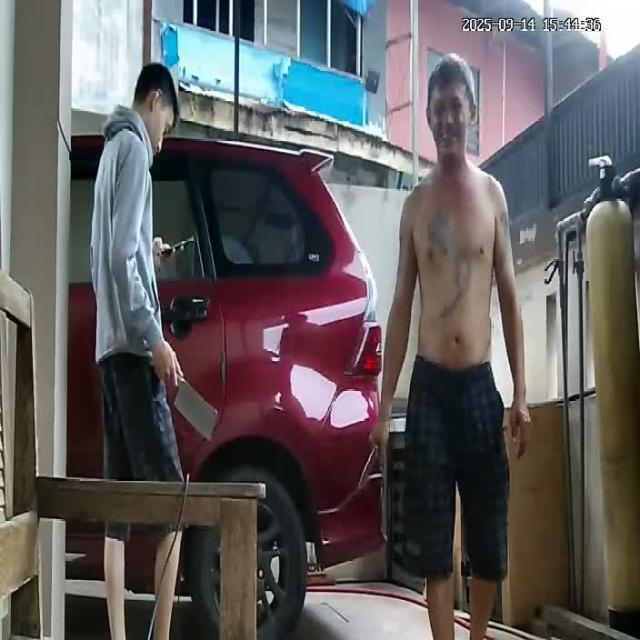senjata_tajam: (173, 376, 220, 442), (355, 444, 380, 492)
